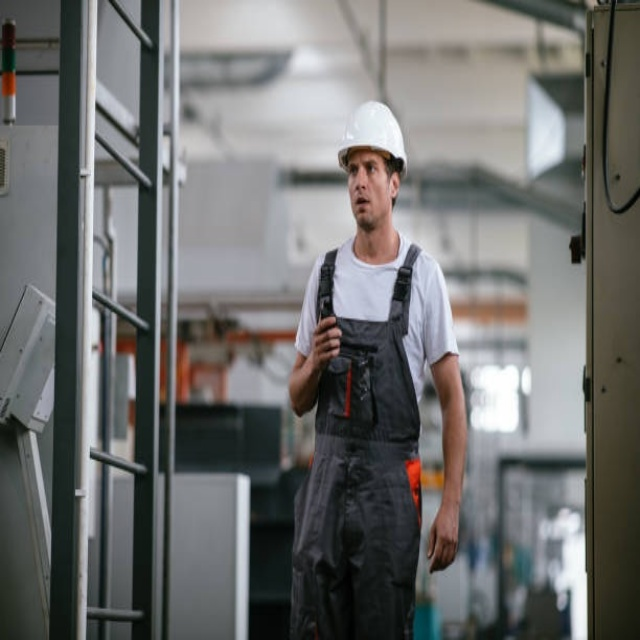Sin_gafas: (347, 154, 380, 184)
Sin_guantes: (428, 499, 463, 574), (305, 312, 341, 372)
Sin_mascara: (349, 193, 380, 224)
